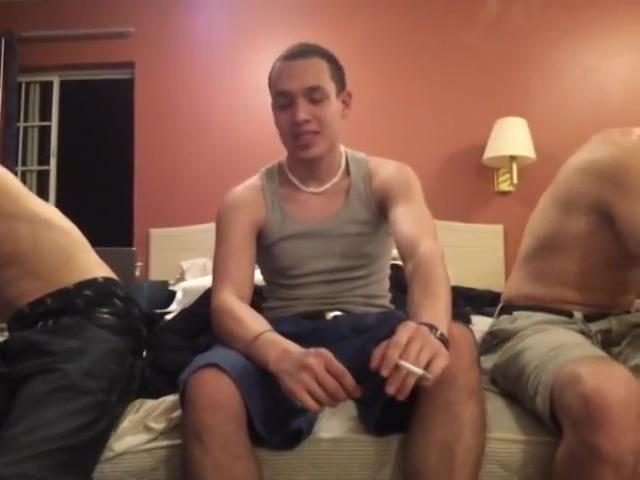cigarette: (398, 356, 435, 382)
